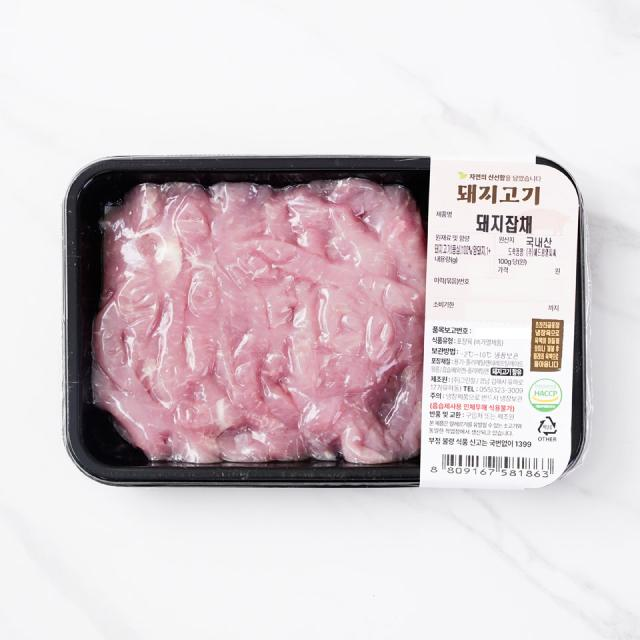pork: (38, 147, 616, 510)
